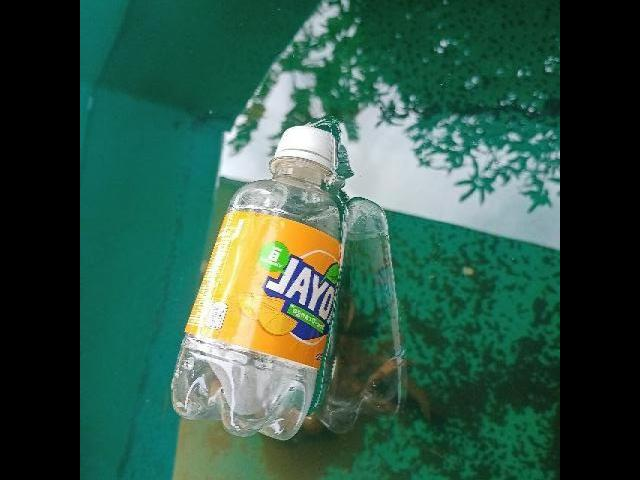Bottle: (170, 119, 340, 446)
